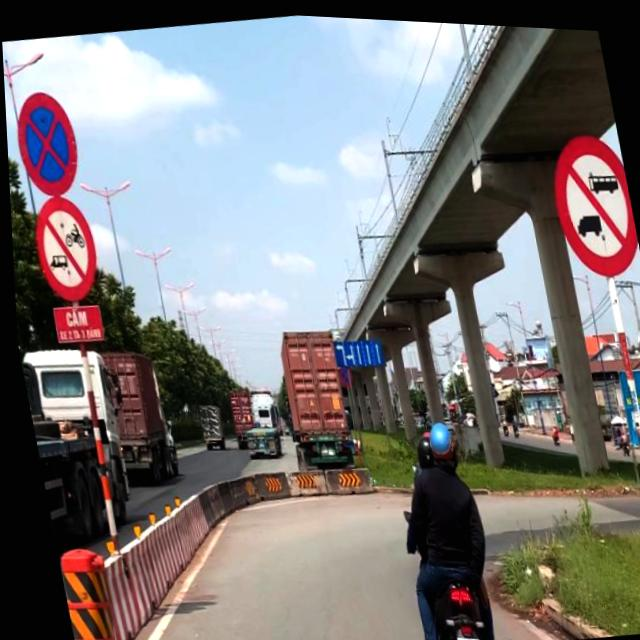Cam dung xe va do xe: (6, 84, 85, 201), (333, 359, 351, 385)
